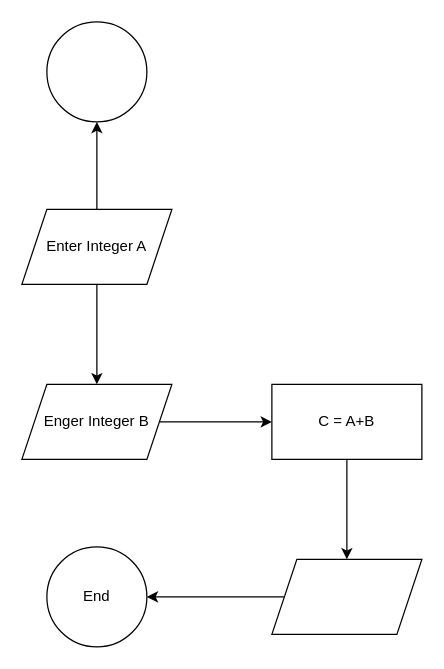
This 444x669 diagram has some shape labels left out. Here are the shapes that lost their labels. From the top down, the centre of each, then its label:
At [96,71]: "Start".
At [346,596]: "Display C".
